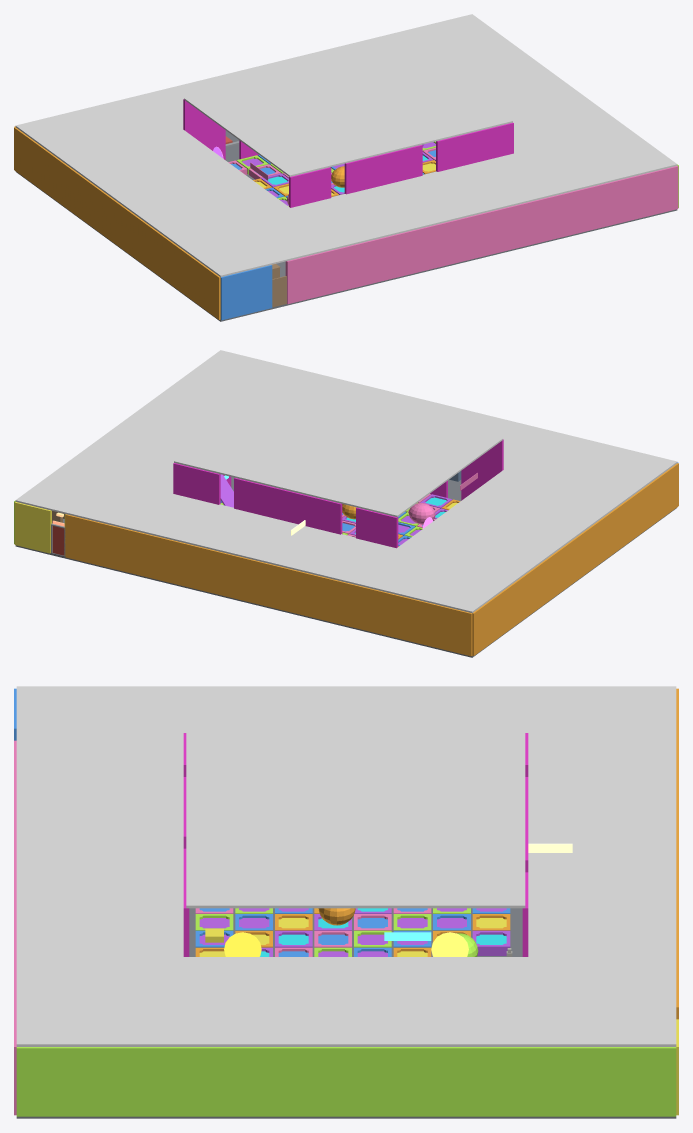
File: BOUNCE_BACK_UE5.fbx
The picture shows the model from 3 angles, top to bottom: view 1: azimuth 30°, elevation 25°; view 2: azimuth 150°, elevation 25°; view 3: azimuth 270°, elevation 25°; orthographic projection. The views are drawn at different scales.
Visible parts, largest first — view 1: Ceiling_Arena_Roof, Wall_South_02, Ceiling_WestCorridor, Wall_West_01, Ceiling_EastCorridor, Ceiling_Reception, Ceiling_FoamPit, Ceiling_PartyA, Ceiling_PartyB, Ceiling_Locker, Ceiling_Arcade, Divider_SouthBand_Mid_04 (+9 smaller); view 2: Ceiling_Arena_Roof, Wall_North_01, Ceiling_WestCorridor, Wall_West_01, Ceiling_EastCorridor, Ceiling_Reception, Ceiling_FoamPit, Ceiling_Dodgeball, Ceiling_Ninja, Ceiling_Arcade, Divider_NorthBand_Mid_04, Ceiling_Staff (+10 smaller); view 3: Ceiling_Arena_Roof, Wall_East_01, Ceiling_EastCorridor, Ceiling_Reception, Ceiling_WestCorridor, Ceiling_FoamPit, Ceiling_Dodgeball, Ceiling_PartyA, Ceiling_Ninja, Ceiling_Locker, Ceiling_PartyB, Ceiling_Arcade (+16 smaller).
Boxes of the visible parts, bbox=[...] form: Ceiling_Arena_Roof: bbox=[184, 44, 512, 176]; Wall_South_02: bbox=[285, 166, 678, 304]; Ceiling_WestCorridor: bbox=[62, 130, 289, 238]; Wall_West_01: bbox=[14, 127, 220, 319]; Ceiling_EastCorridor: bbox=[440, 48, 624, 152]; Ceiling_Reception: bbox=[168, 207, 342, 277]; Ceiling_FoamPit: bbox=[15, 96, 183, 160]; Ceiling_PartyA: bbox=[372, 163, 525, 227]; Ceiling_PartyB: bbox=[473, 143, 606, 202]; Ceiling_Locker: bbox=[291, 188, 423, 247]; Ceiling_Arcade: bbox=[554, 125, 677, 182]; Divider_SouthBand_Mid_04: bbox=[344, 145, 422, 194]; Ceiling_Arena_Roof: bbox=[174, 384, 502, 517]; Wall_North_01: bbox=[65, 514, 472, 656]; Ceiling_WestCorridor: bbox=[398, 470, 624, 578]; Wall_West_01: bbox=[472, 463, 678, 655]; Ceiling_EastCorridor: bbox=[63, 389, 246, 492]; Ceiling_Reception: bbox=[503, 432, 677, 501]; Ceiling_FoamPit: bbox=[350, 547, 519, 613]; Ceiling_Dodgeball: bbox=[127, 494, 294, 558]; Ceiling_Ninja: bbox=[249, 523, 395, 583]; Ceiling_Arcade: bbox=[168, 350, 291, 405]; Divider_NorthBand_Mid_04: bbox=[234, 478, 342, 534]; Ceiling_Staff: bbox=[66, 478, 173, 528]; Ceiling_Arena_Roof: bbox=[186, 730, 525, 908]; Wall_East_01: bbox=[16, 1047, 676, 1116]; Ceiling_EastCorridor: bbox=[186, 957, 525, 1046]; Ceiling_Reception: bbox=[16, 686, 186, 781]; Ceiling_WestCorridor: bbox=[186, 686, 525, 730]; Ceiling_FoamPit: bbox=[525, 686, 676, 781]; Ceiling_Dodgeball: bbox=[528, 861, 676, 956]; Ceiling_PartyA: bbox=[16, 845, 183, 924]; Ceiling_Ninja: bbox=[528, 781, 676, 861]; Ceiling_Locker: bbox=[16, 781, 183, 845]; Ceiling_PartyB: bbox=[16, 925, 186, 988]; Ceiling_Arcade: bbox=[16, 988, 186, 1046].
Bounding box in the file's own units: 45.3 × 7.75 × 35.3.
